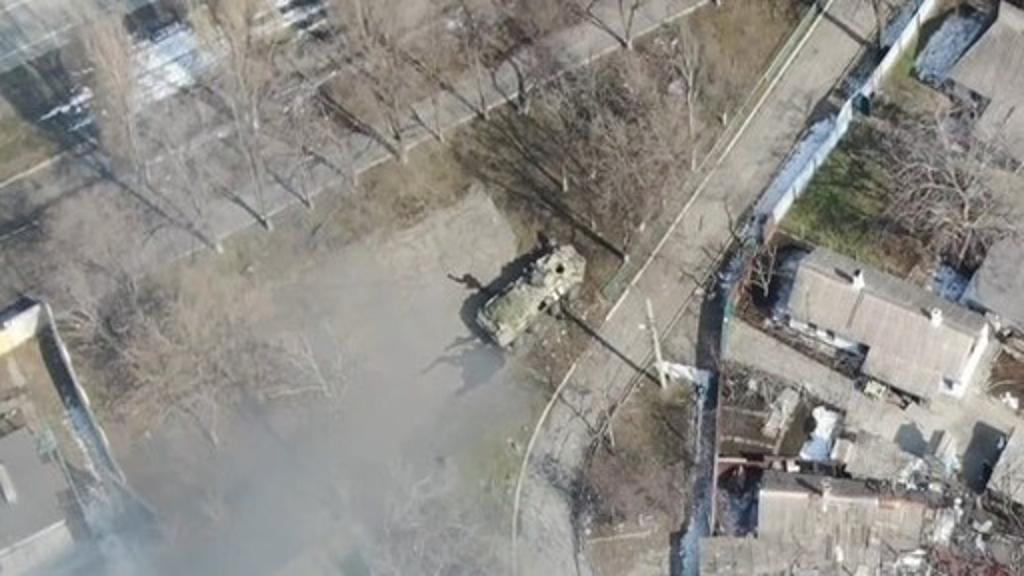APC-IFV: (464, 238, 592, 346)
